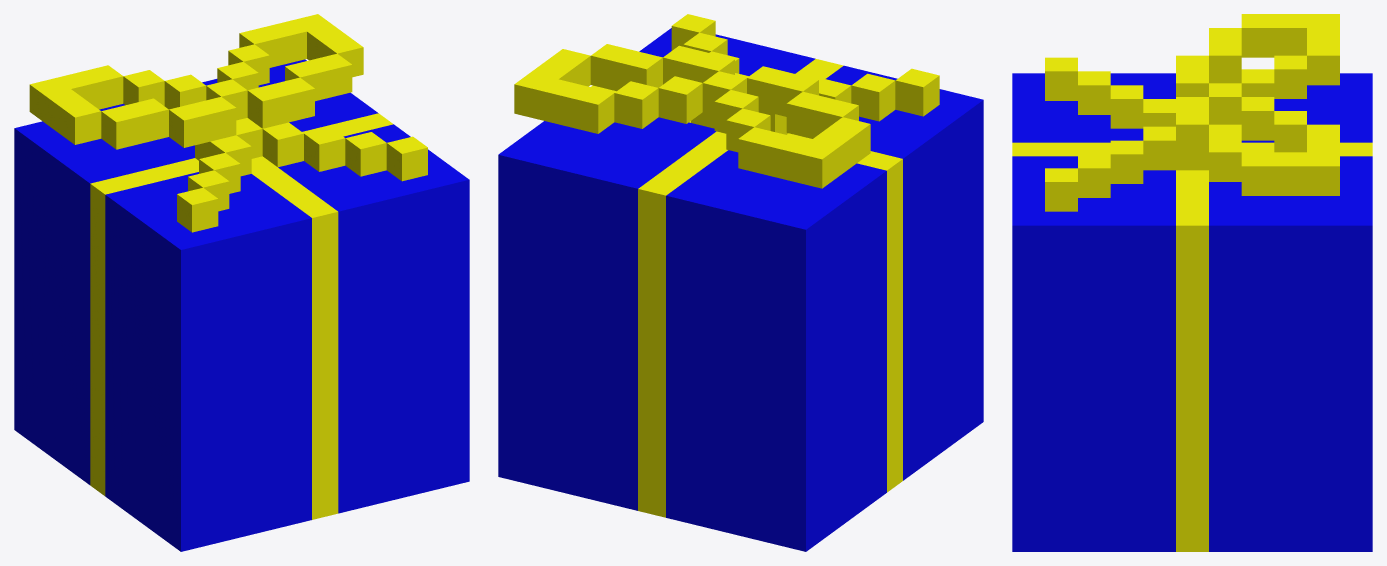
File: ChristmasDecoration1.fbx
3 views of the same model, side by side, from view 1: azimuth 30°, elevation 25°; view 2: azimuth 150°, elevation 25°; view 3: azimuth 270°, elevation 25° (orthographic). The views are drawn at different scales.
Parts seen in each view (by area): view 1: ObjObject.001; view 2: ObjObject.001; view 3: ObjObject.001.
Part boxes in pixels (bbox=[...]): ObjObject.001: bbox=[14, 14, 469, 551]; ObjObject.001: bbox=[498, 14, 983, 551]; ObjObject.001: bbox=[1012, 14, 1372, 551].
Size of the model in its own units: 25.12 by 29.69 by 25.12.
